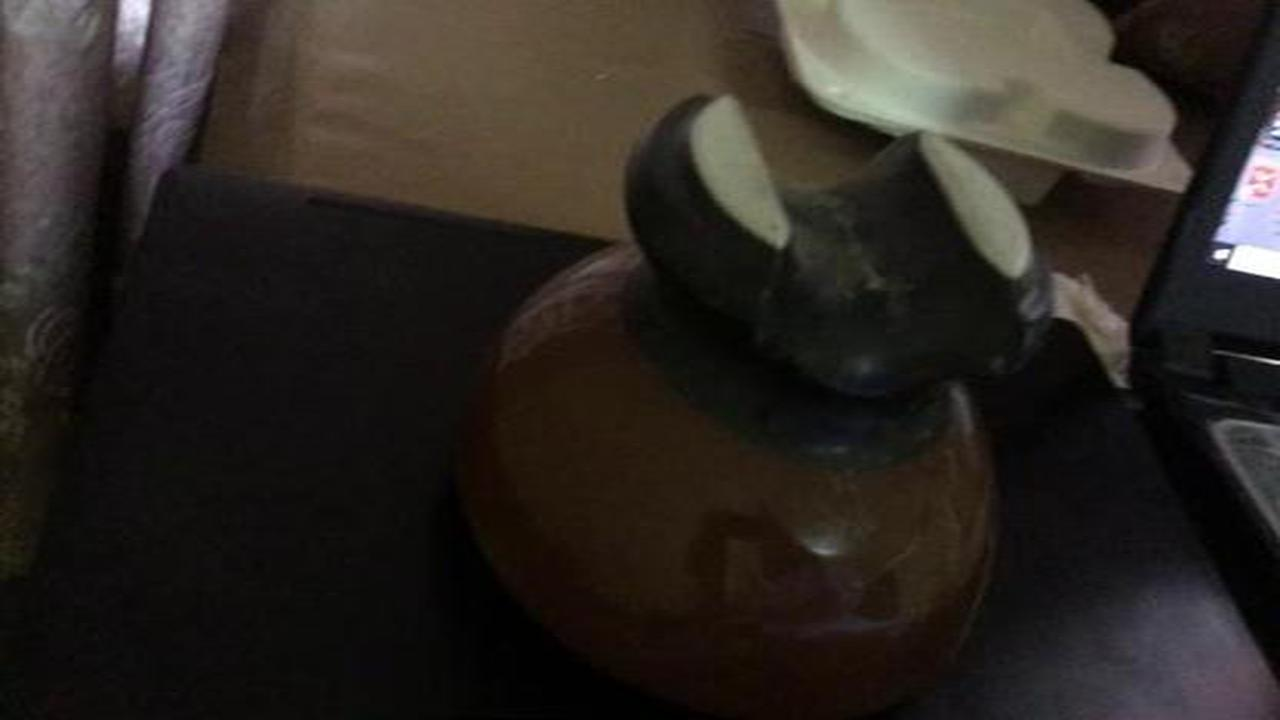insulator_pin: (422, 77, 1074, 705)
